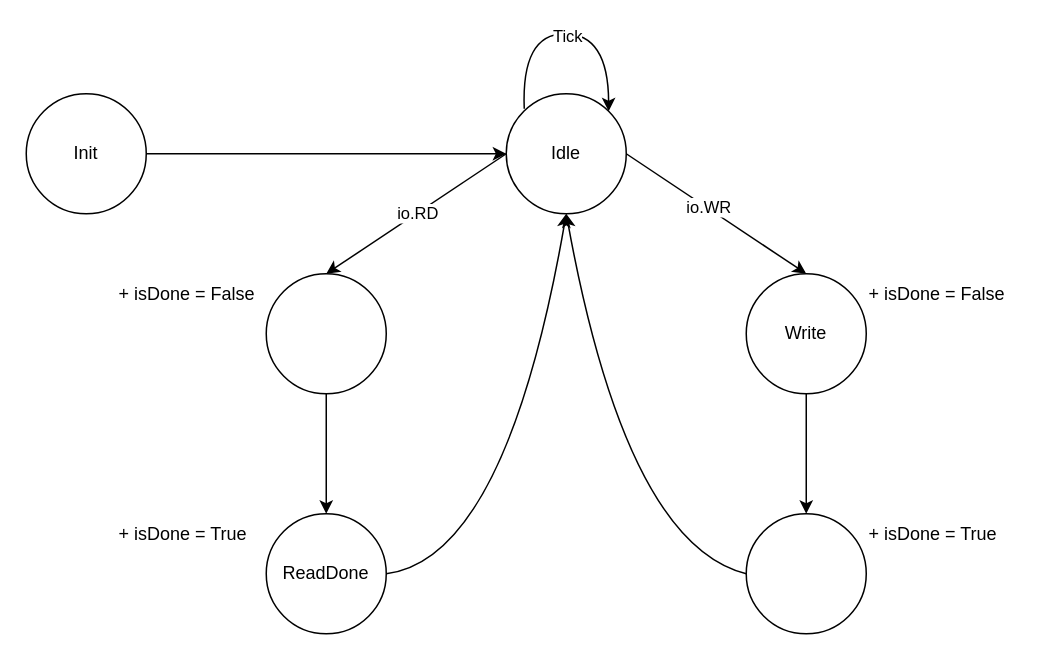
Some shapes in this 1043 by 660 pixel diagram are drawn without their labels. The centre of each missing label's shape, as x and y in pixels:
"Read" goes at (x=325, y=333).
"WriteDone" goes at (x=805, y=573).
